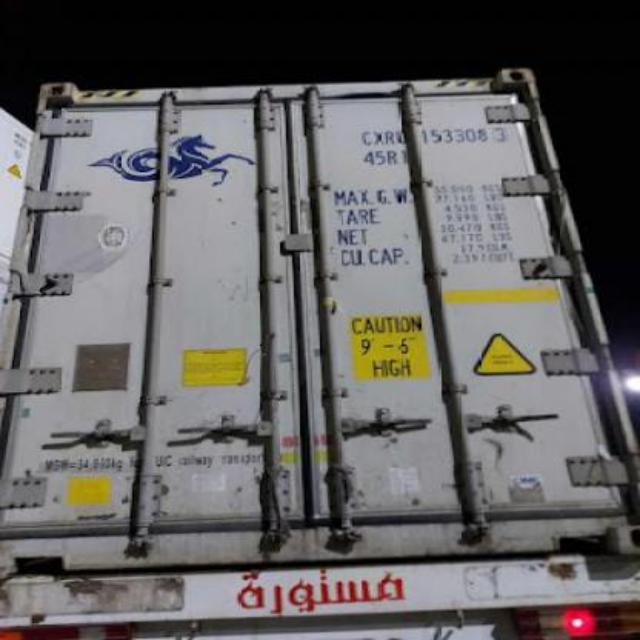0: (464, 122, 476, 152)
1: (418, 124, 430, 148)
3: (441, 122, 454, 148), (492, 124, 510, 142), (454, 124, 466, 148)
5: (428, 125, 440, 145)
8: (474, 118, 488, 148)
C: (352, 124, 372, 148)
R: (386, 128, 396, 148)
U: (394, 126, 414, 150)
X: (372, 128, 386, 148)
